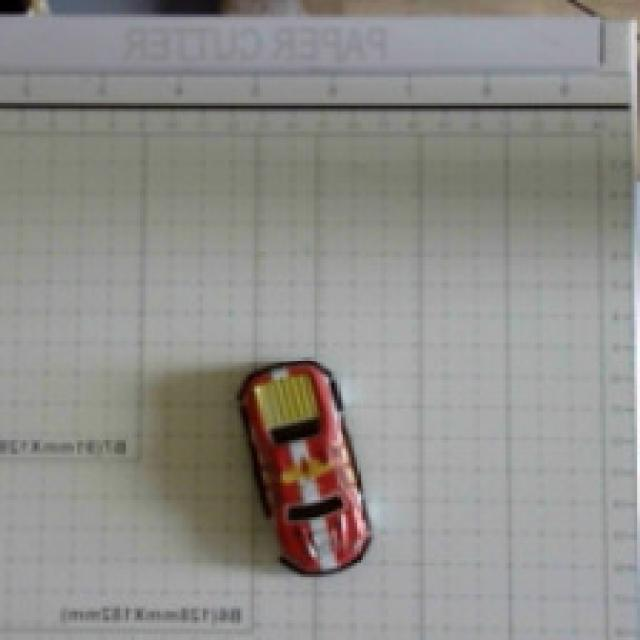Red Car: (193, 319, 416, 596)
